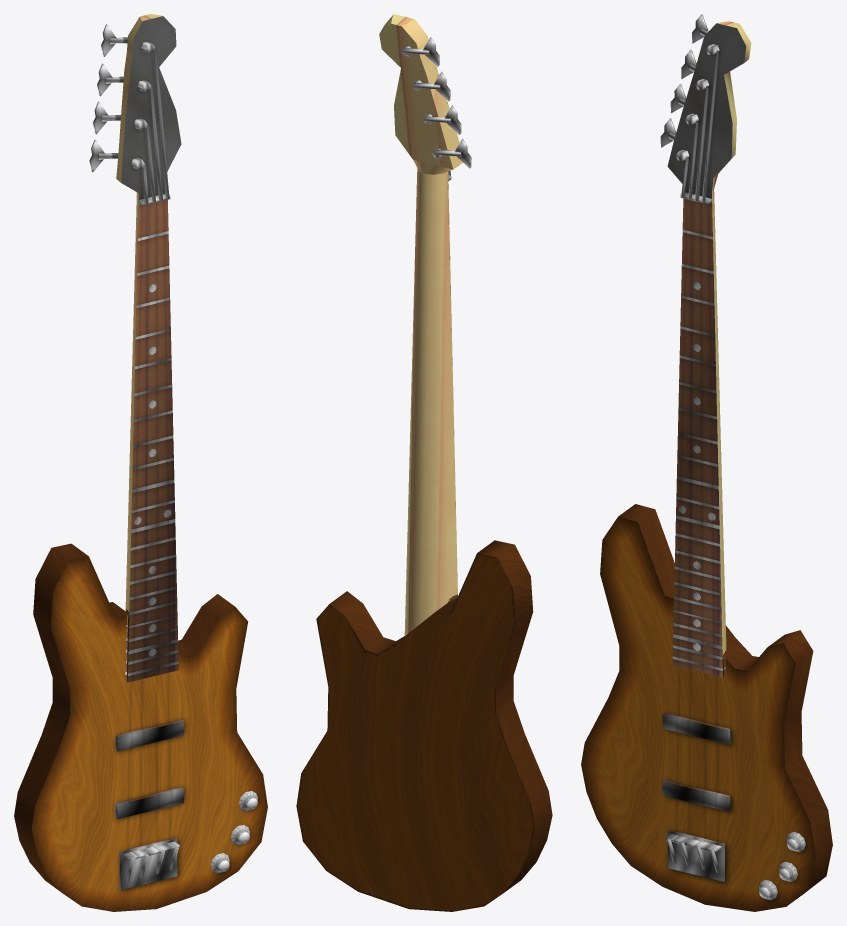
The model's file is BassFretless.fbx.
3 views of the same model, side by side, from view 1: azimuth 30°, elevation 25°; view 2: azimuth 150°, elevation 25°; view 3: azimuth 330°, elevation 25° (orthographic).
Visible parts, largest first — view 1: Bass; view 2: Bass; view 3: Bass.
Boxes of the visible parts, x1,y1,x2,y2 form: Bass: (14, 14, 267, 911); Bass: (296, 14, 552, 911); Bass: (581, 14, 832, 911).
Bounding box in the file's own units: 17.49 × 62.15 × 4.01.
1 material, 1 textured.
